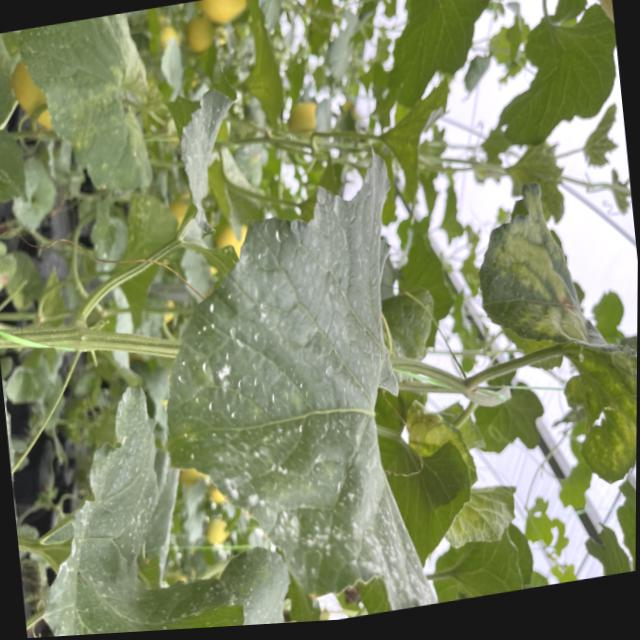CMV: (461, 157, 639, 503)
powdery mildew: (133, 134, 443, 632), (14, 361, 252, 639)
